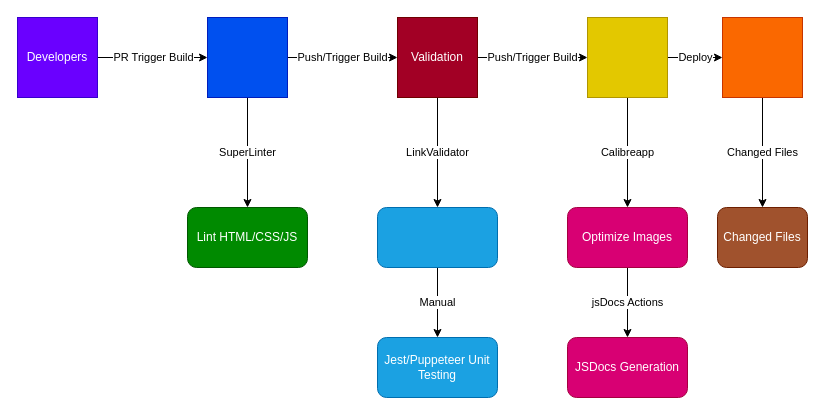
Image size: 825x415. Some labels were removed from this diagram. The centre of each missing label's shape, as x and y in pixels:
Container Service: the point at 627,57
Notifcation: the point at 762,57
Source Code Management: the point at 247,57
Test Markdown Links: the point at 437,237
